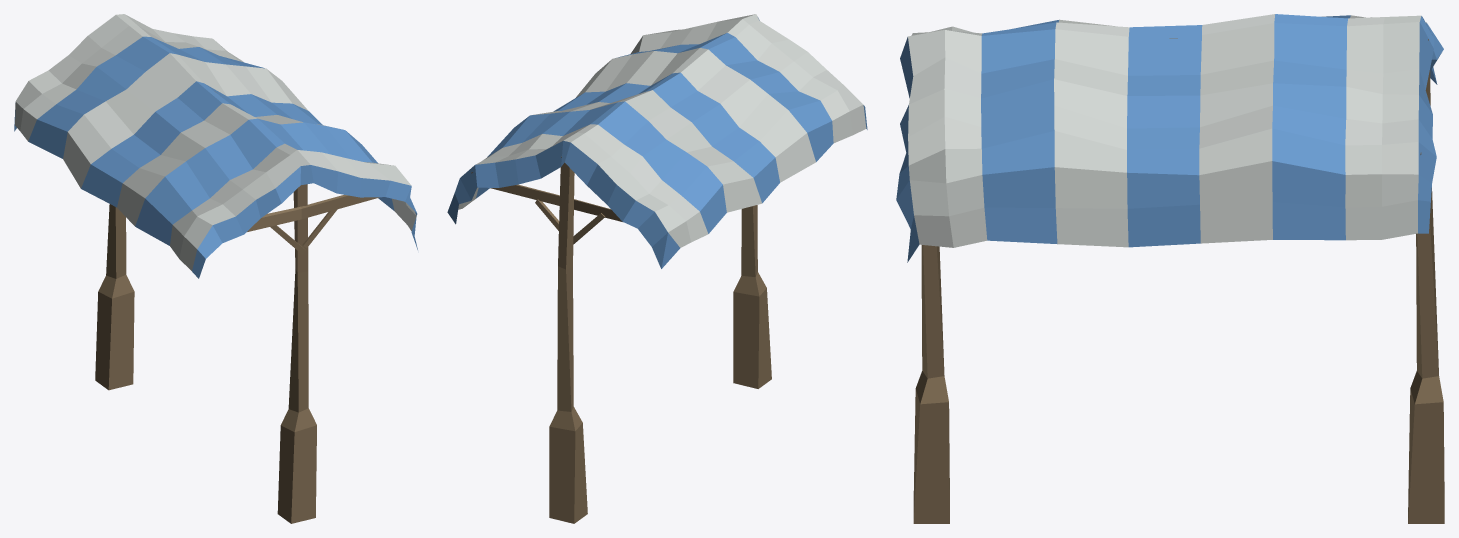
The model's file is Tent.fbx.
The picture shows the model from 3 angles, left to right: view 1: azimuth 30°, elevation 25°; view 2: azimuth 150°, elevation 25°; view 3: azimuth 270°, elevation 25°; orthographic projection. The views are drawn at different scales.
Parts seen in each view (by area): view 1: TwP_prop_Tent_03; view 2: TwP_prop_Tent_03; view 3: TwP_prop_Tent_03.
Boxes of the visible parts, x1,y1,x2,y2 form: TwP_prop_Tent_03: [14, 14, 417, 523]; TwP_prop_Tent_03: [447, 14, 867, 523]; TwP_prop_Tent_03: [896, 14, 1444, 523].
Size of the model in its own units: 1.58 by 2.36 by 2.34.
Materials: 1 (1 with a texture image).
